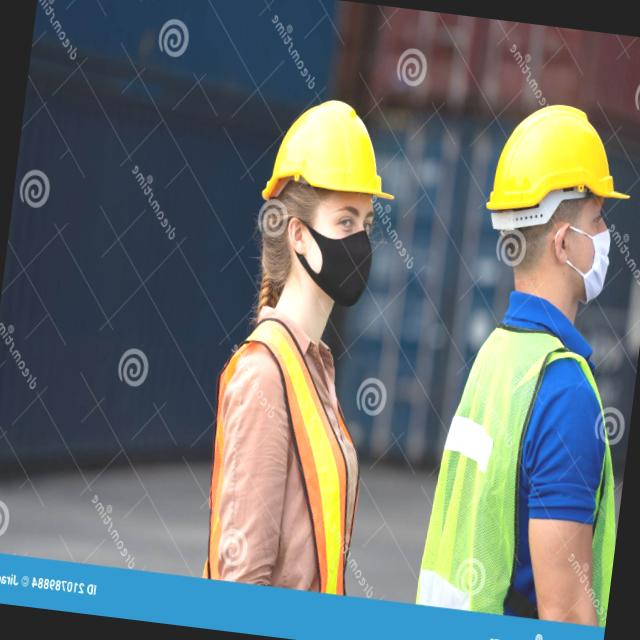helmet: (478, 88, 640, 241), (250, 80, 400, 218)
no-goggles: (280, 182, 385, 242), (545, 194, 626, 251)
vest: (438, 311, 622, 628), (199, 318, 372, 591)
